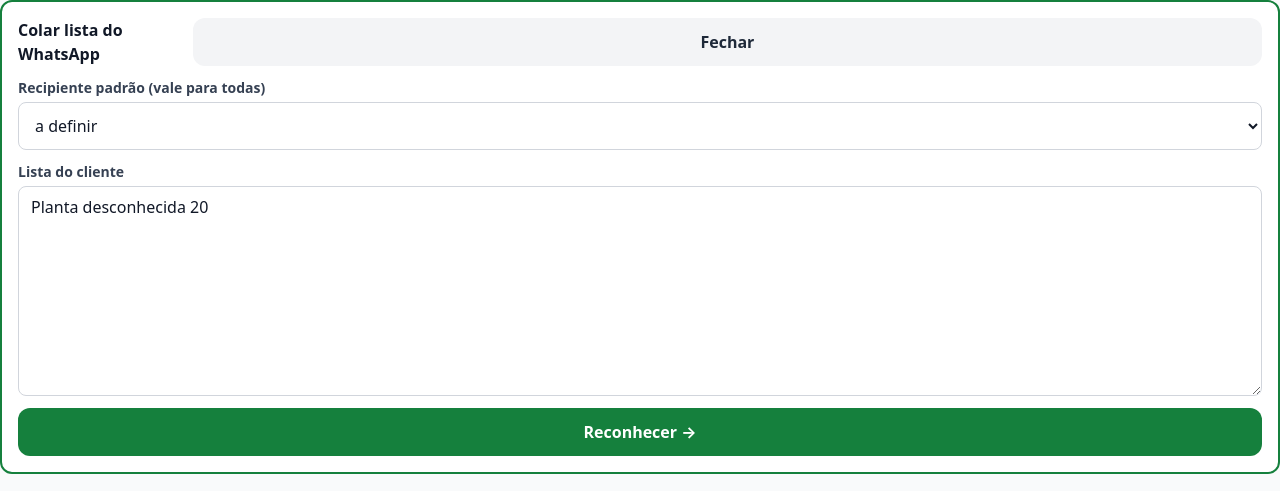
conferência da lista colada (T8.16) › marcar genérico resolve a linha sem espécie
Select "Tubete" in the dropdown labelled "Recipiente padrão (vale para todas)" at (640, 126), box [18,102,1262,150]
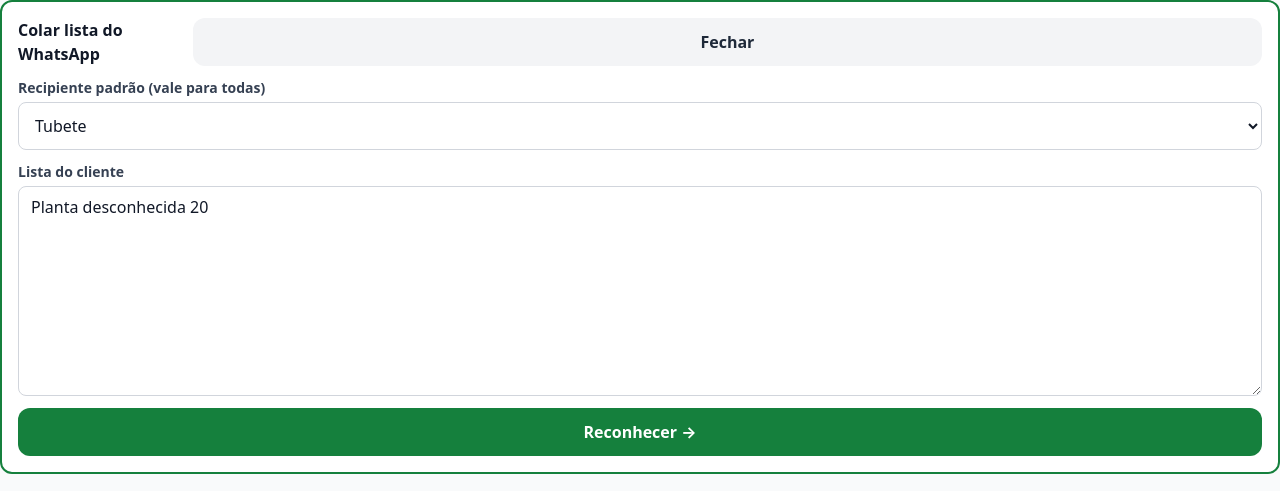
Click the button "Reconhecer →" at (640, 432), box [18,408,1262,456]
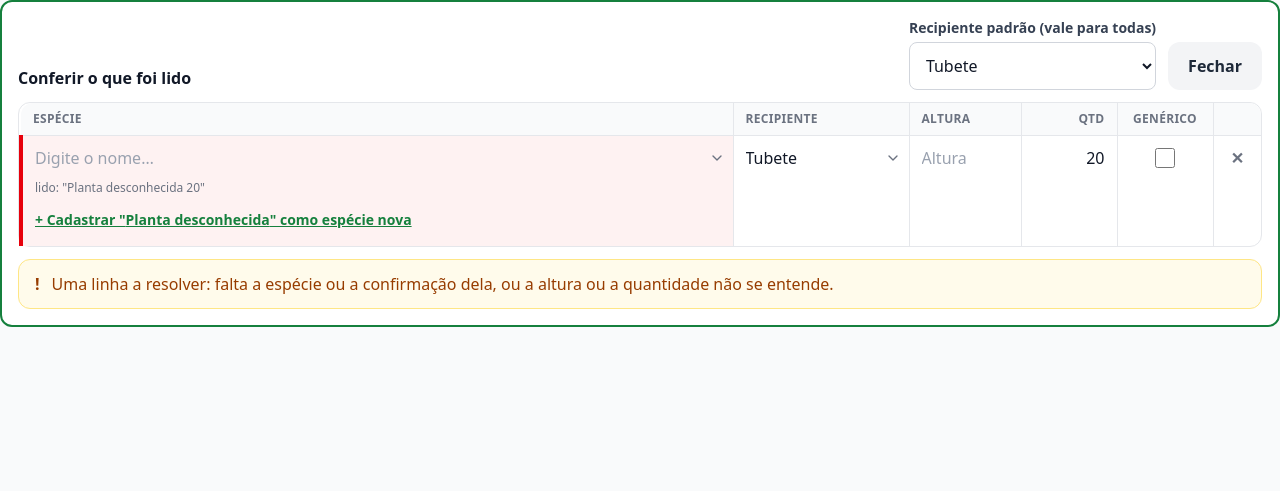
Expected: the text "Adicionar 1 item" is not shown
Click the checkbox named "Tornar genérico o item da linha 1" at (1165, 158), box [1155,148,1175,168]
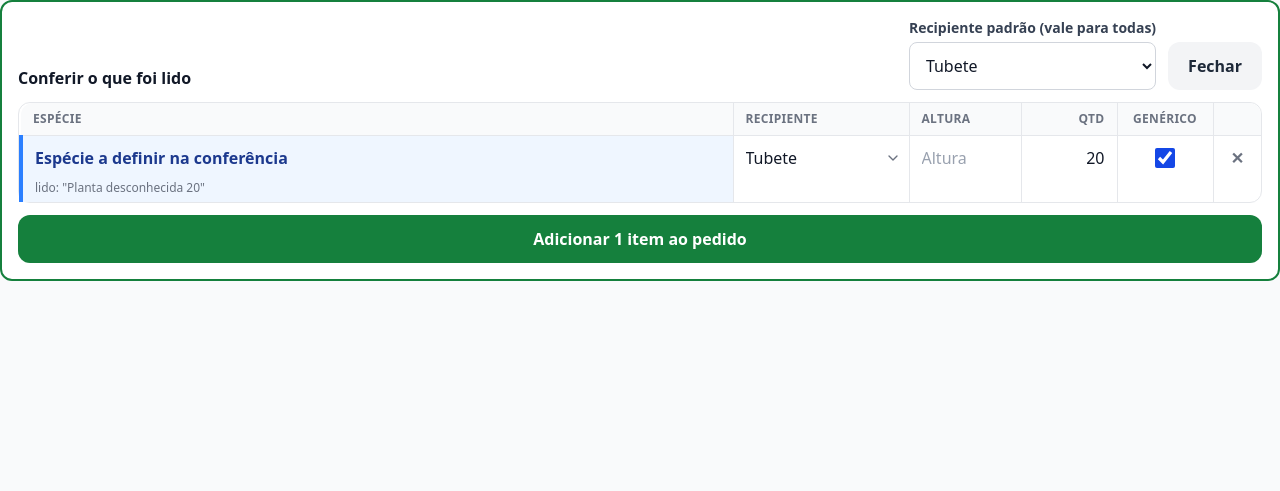
Expected: the text "Espécie a definir na conferência" is shown, [35,147,288,169]
Expected: the button "Adicionar 1 item ao pedido" is shown, [18,215,1262,263]
